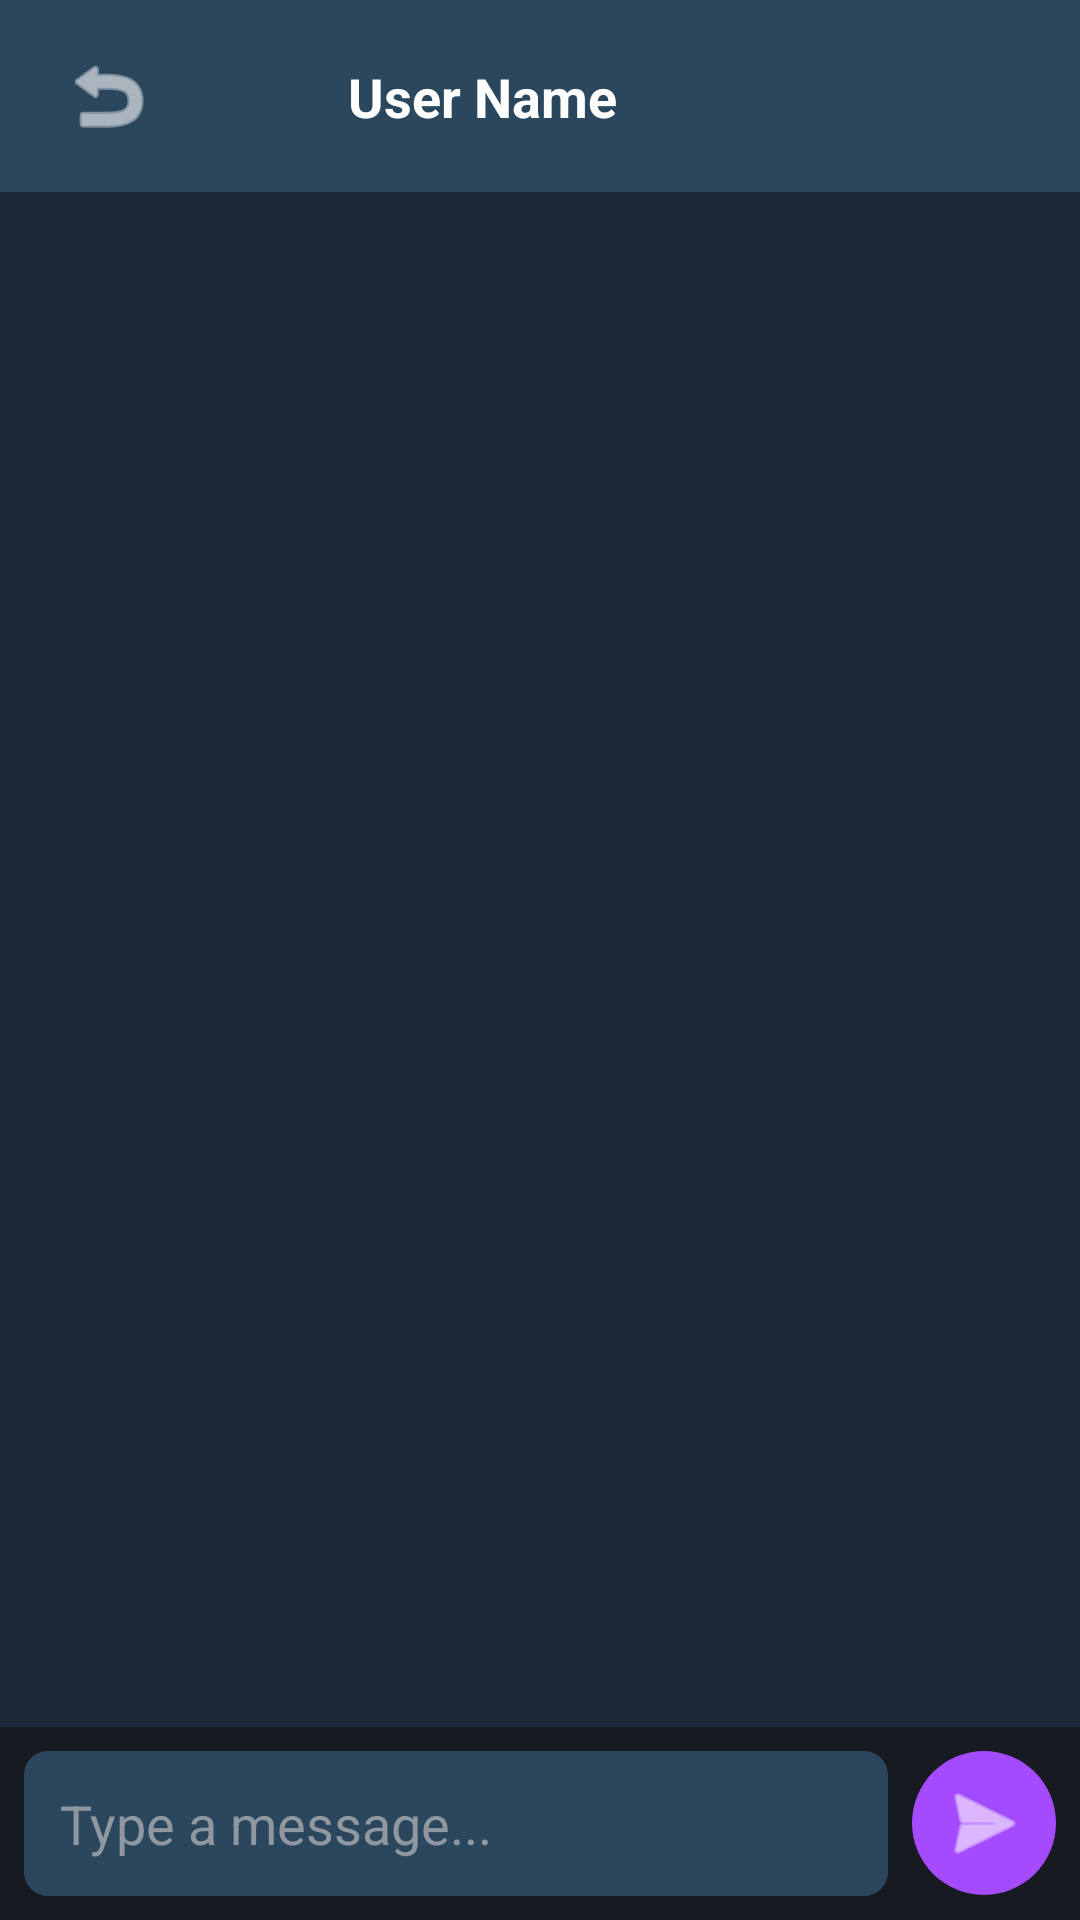

Screen size 1080x1920. Icon name, then its box in pixels as Rect(x1, y1, x2, y2):
revert: Rect(75, 65, 144, 128)
send: Rect(912, 1751, 1056, 1895)
